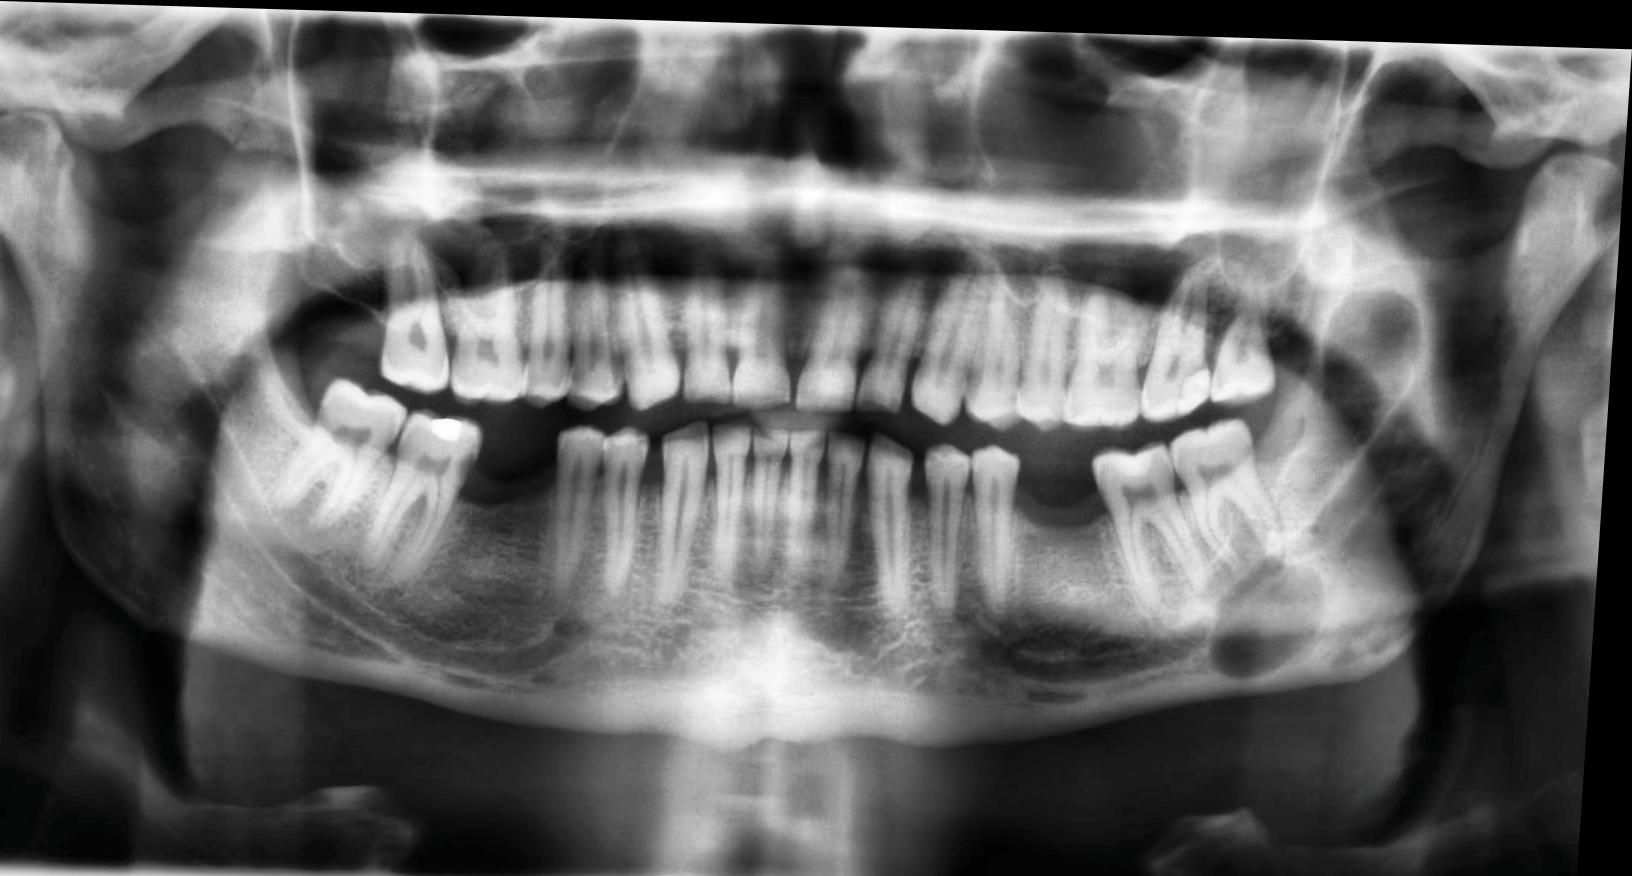keratokist: (1213, 272, 1427, 675)
